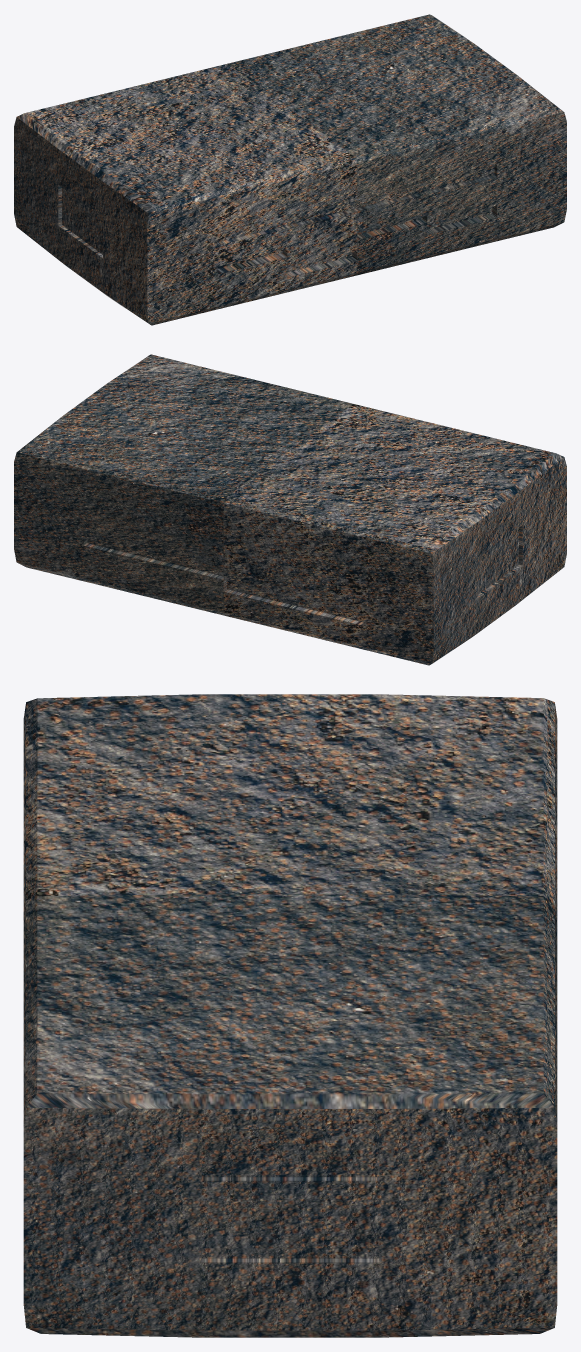
Rendered from brickexport 1.fbx.
3 renders of one model, top to bottom at view 1: azimuth 30°, elevation 25°; view 2: azimuth 150°, elevation 25°; view 3: azimuth 270°, elevation 25°, orthographic. The views are drawn at different scales.
Visible parts, largest first — view 1: pCube1; view 2: pCube1; view 3: pCube1.
Boxes of the visible parts, bbox=[...] form: pCube1: bbox=[14, 14, 566, 325]; pCube1: bbox=[14, 354, 566, 665]; pCube1: bbox=[23, 694, 557, 1337].
Bounding box in the file's own units: 0.0196 × 0.00545 × 0.0108.
